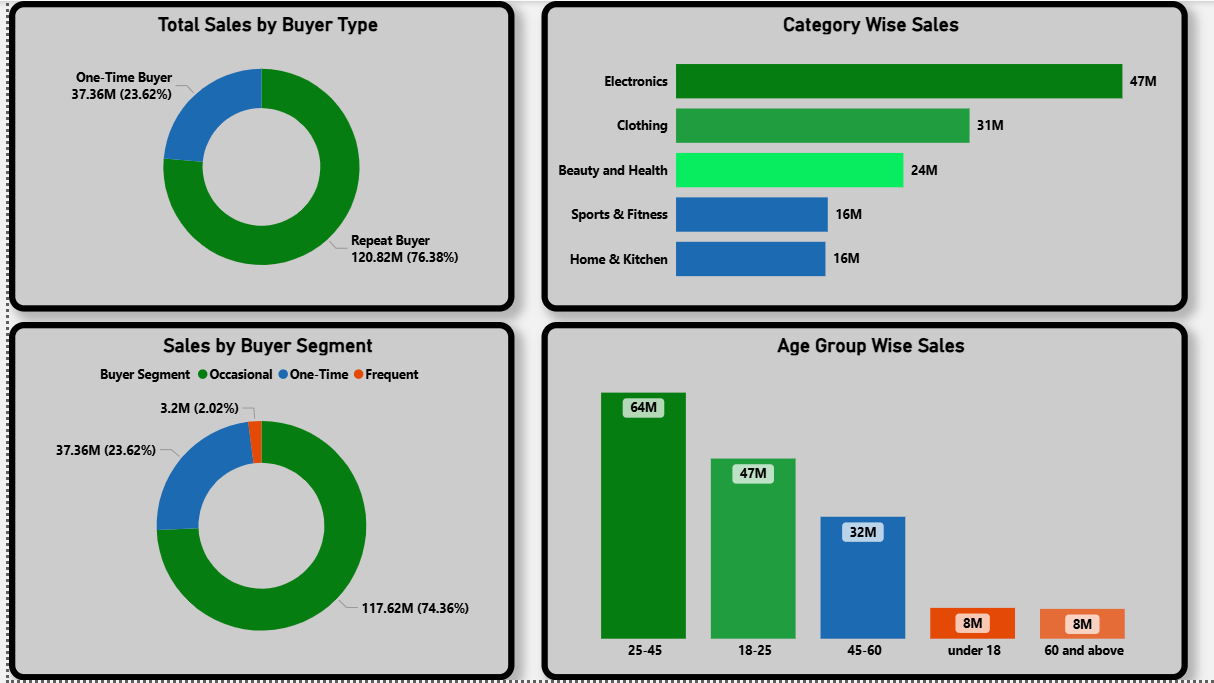

The dashboard page shown, as its layout file describes it:
{"tool":"powerbi","page":{"name":"Sales Analysis","canvas":[1280,720],"ordinal":1},"visuals":[{"type":"donutChart","fields":{"Category":["ecommerce ecommerce_orders.Buyer Type"],"Y":["ecommerce ecommerce_orders.Total Sales"]},"box":[0,0,536,329.3],"z":0},{"type":"clusteredBarChart","title":"Category Wise Sales","fields":{"Category":["ecommerce ecommerce_orders.Product Category"],"Y":["ecommerce ecommerce_orders.Total Sales"]},"box":[564.7,0,685.6,329.3],"z":1000},{"type":"donutChart","title":" Sales by Buyer Segment","fields":{"Category":["ecommerce ecommerce_orders.Buyer Segment"],"Y":["ecommerce ecommerce_orders.Total Sales"]},"box":[0,340.4,536,380.2],"z":2000},{"type":"lineStackedColumnComboChart","title":" Age Group Wise Sales","fields":{"Category":["ecommerce ecommerce_orders.Age Group"],"Y":["ecommerce ecommerce_orders.Total Sales"]},"box":[564.7,340.4,685.6,380.2],"z":3000}]}

Visuals, with their boxes in screenshot pixels (x1, y1, x2, y2), scaled from the page's 1280x720 canvas onto the 1214x683 screenshot:
donutChart - ecommerce ecommerce_orders.Buyer Type x ecommerce ecommerce_orders.Total Sales: bbox(0, 0, 508, 312)
"Category Wise Sales" clusteredBarChart: bbox(536, 0, 1186, 312)
" Sales by Buyer Segment" donutChart: bbox(0, 323, 508, 682)
" Age Group Wise Sales" lineStackedColumnComboChart: bbox(536, 323, 1186, 682)
